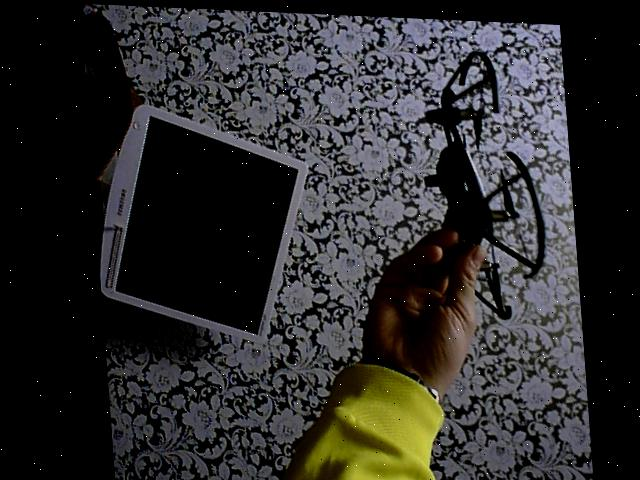drone: (402, 25, 556, 324)
